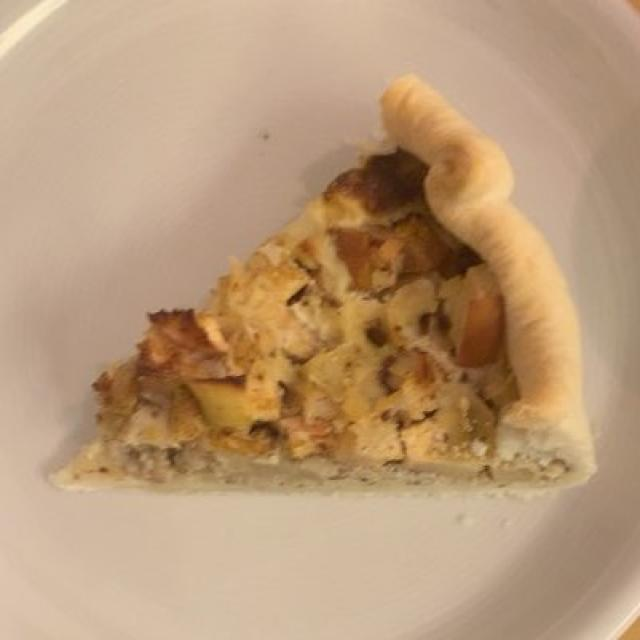Pizza: (43, 68, 606, 518)
